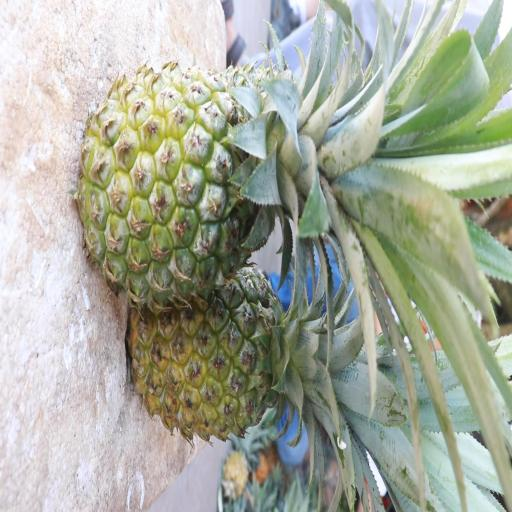------------------------------: (86, 66, 330, 290)
Pineapple - v8 v1: (131, 271, 334, 437)
